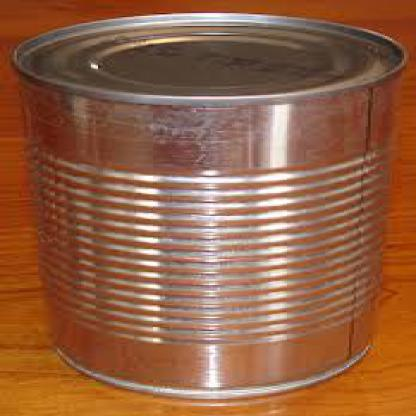METAL: (7, 10, 407, 396)
